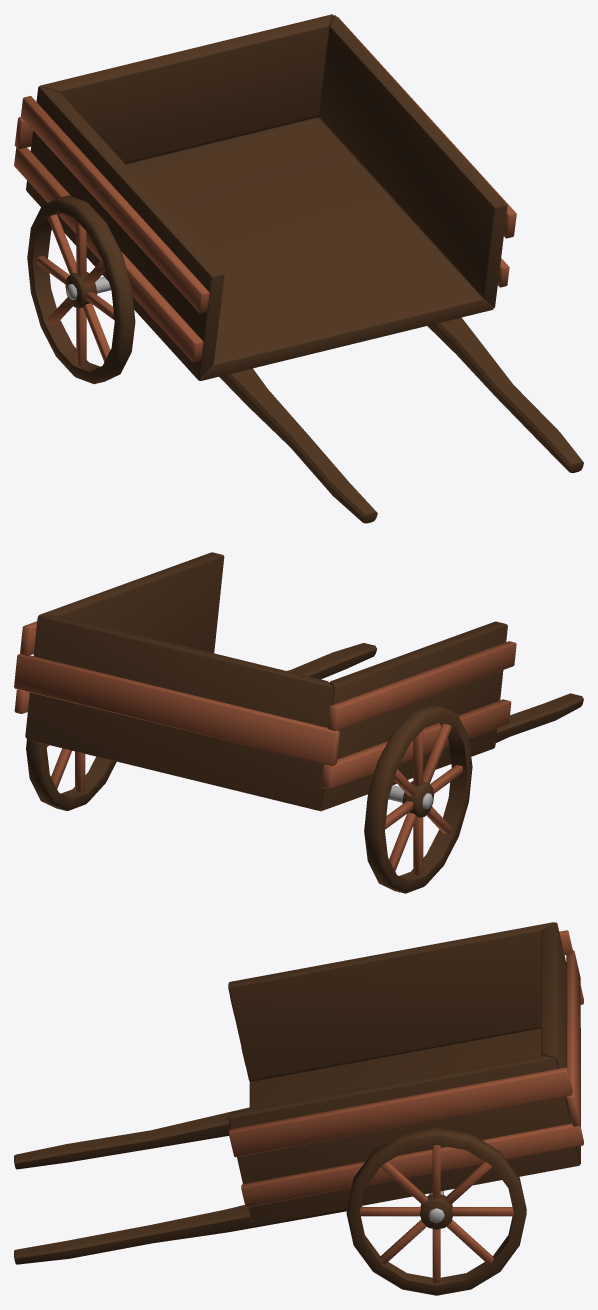
The model's file is cart.fbx.
3 renders of one model, top to bottom at view 1: azimuth 30°, elevation 25°; view 2: azimuth 150°, elevation 25°; view 3: azimuth 270°, elevation 25°, orthographic. The views are drawn at different scales.
Parts seen in each view (by area): view 1: cart_unheld; view 2: cart_unheld; view 3: cart_unheld.
Part boxes in pixels (bbox=[...]): cart_unheld: bbox=[14, 14, 583, 523]; cart_unheld: bbox=[14, 552, 583, 893]; cart_unheld: bbox=[14, 922, 583, 1295].
Bounding box in the file's own units: 263 × 167 × 381.
